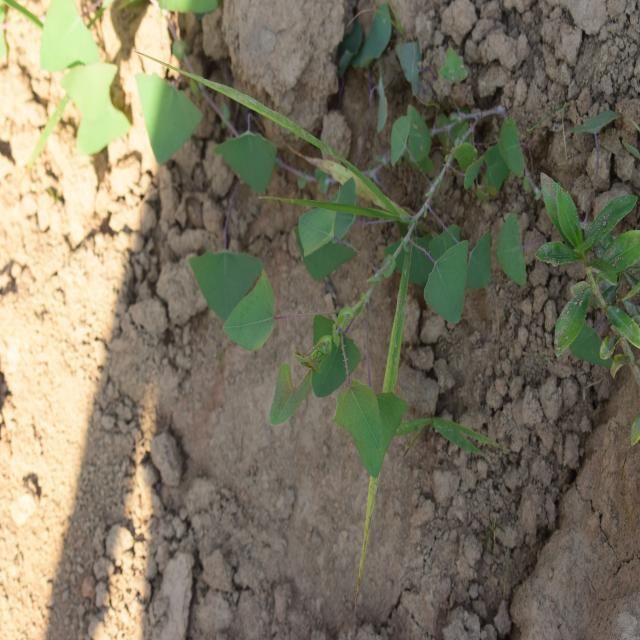Asiatic_Smartweed: (182, 242, 384, 451), (38, 2, 205, 166), (420, 213, 534, 327)
